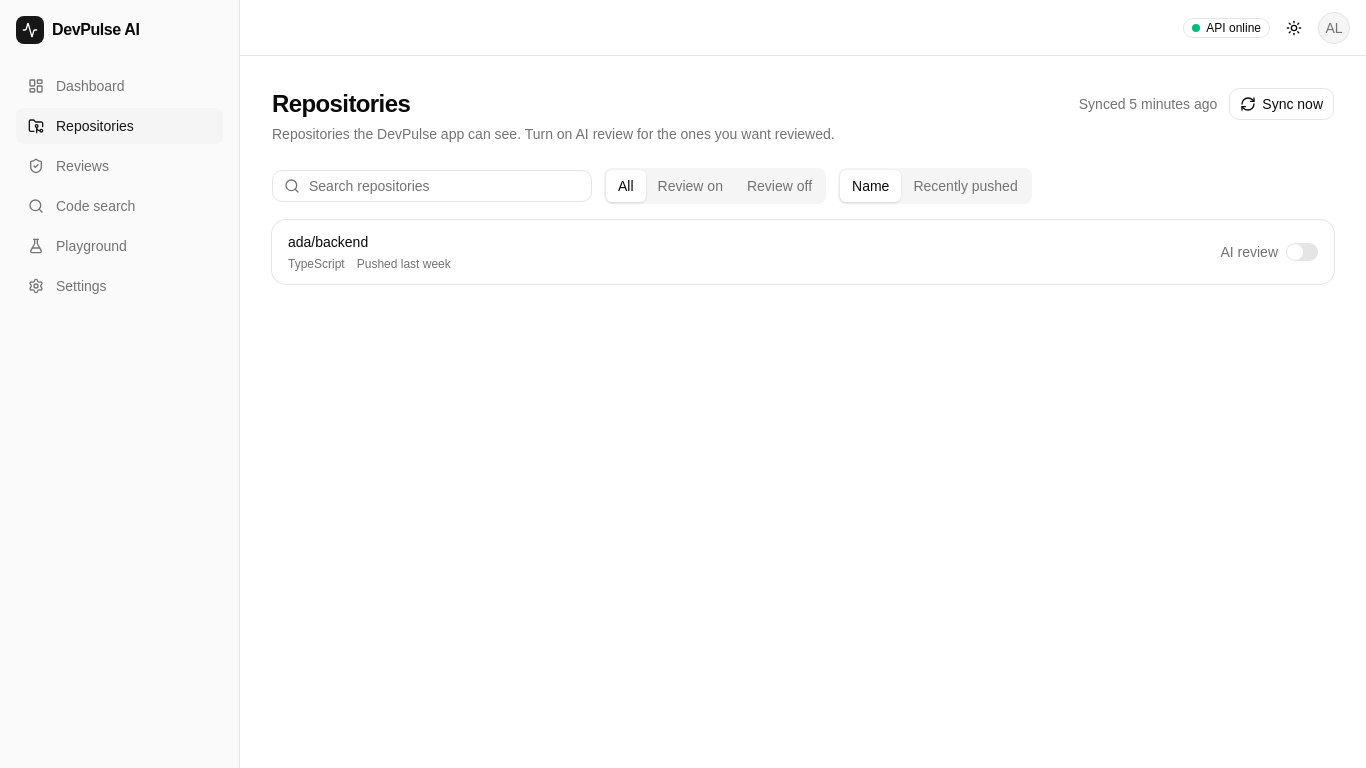
Test: Repositories page — list › puts the switch back and explains when saving fails
Click the switch named "AI review for ada/backend" at (1302, 252), box [1286, 243, 1318, 261]
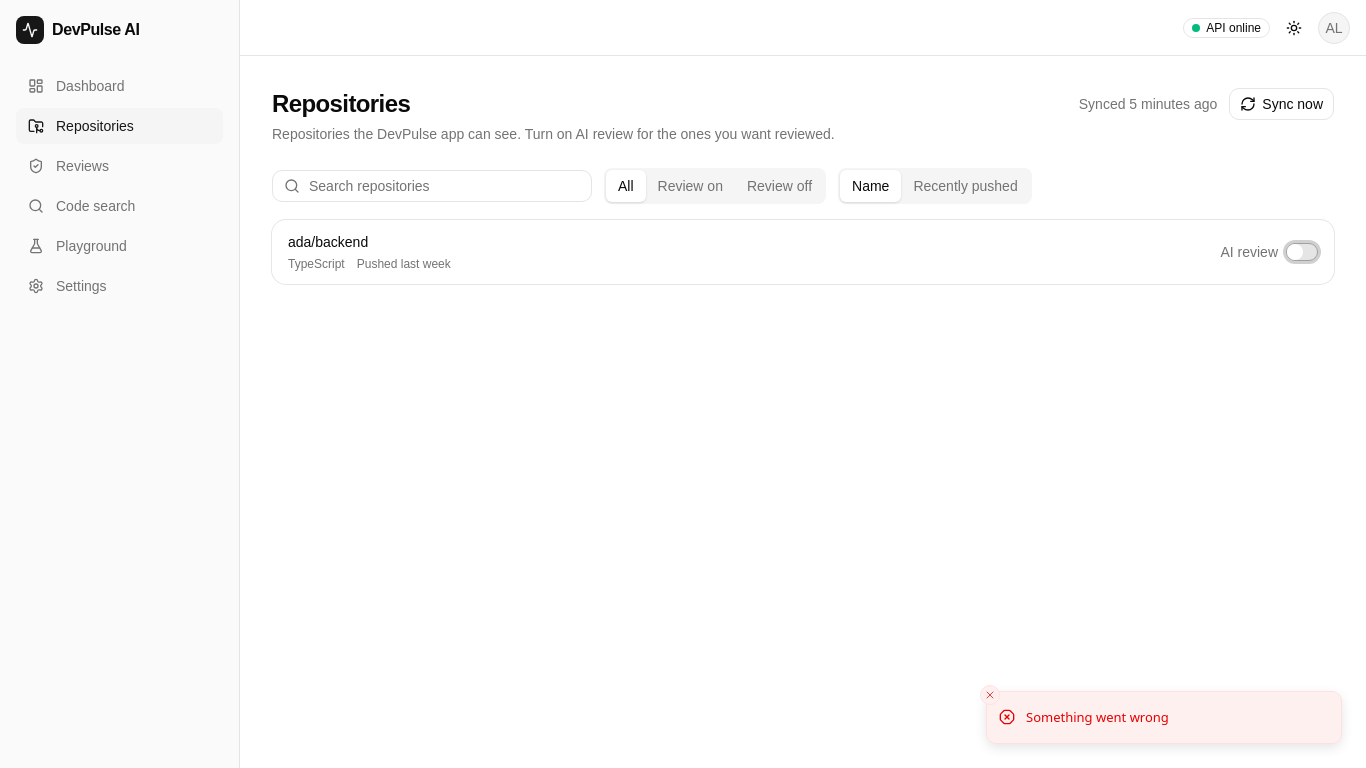
Check: the text "Something went wrong" is shown, box [1026, 708, 1169, 727]
